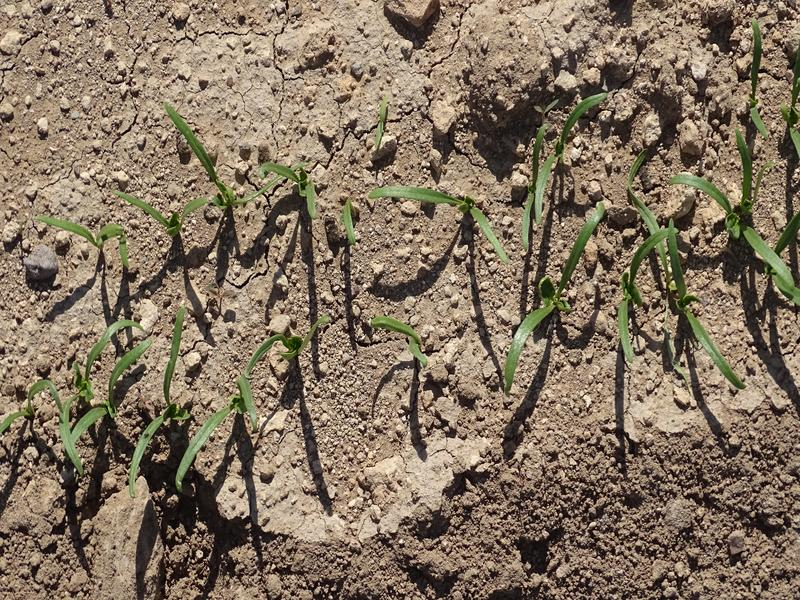Espinaca: (518, 116, 794, 392), (11, 320, 326, 486), (34, 103, 317, 247), (367, 185, 509, 266), (371, 316, 425, 364)
